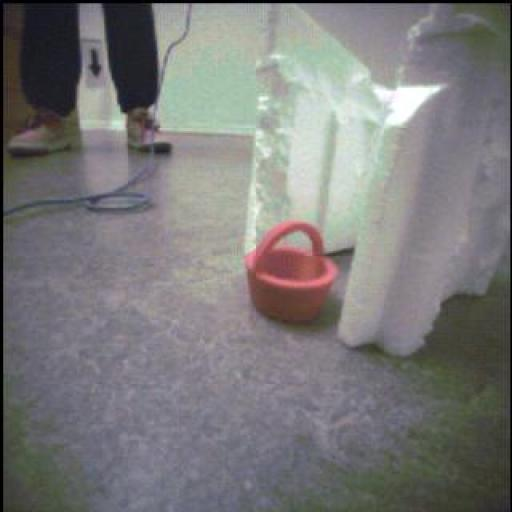Arrow: (91, 49, 102, 78)
Bucket: (245, 214, 337, 325)
